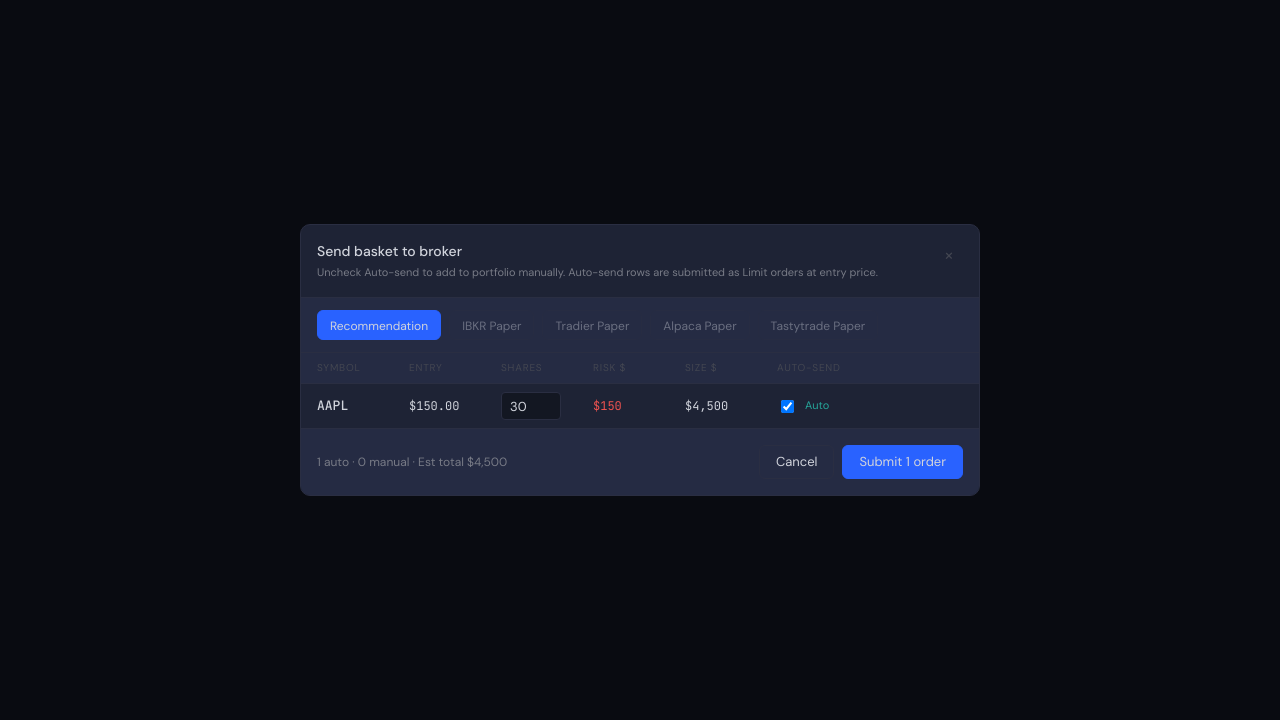
Test: StockSendDialog — pending (backend-unreachable) submit › keeps the dialog open, surfaces a queued note, and disables re-submit
The width and height of the screenshot is (1280, 720).
Click the button "Submit 1 order" at [903, 462], box [842,445,963,479]
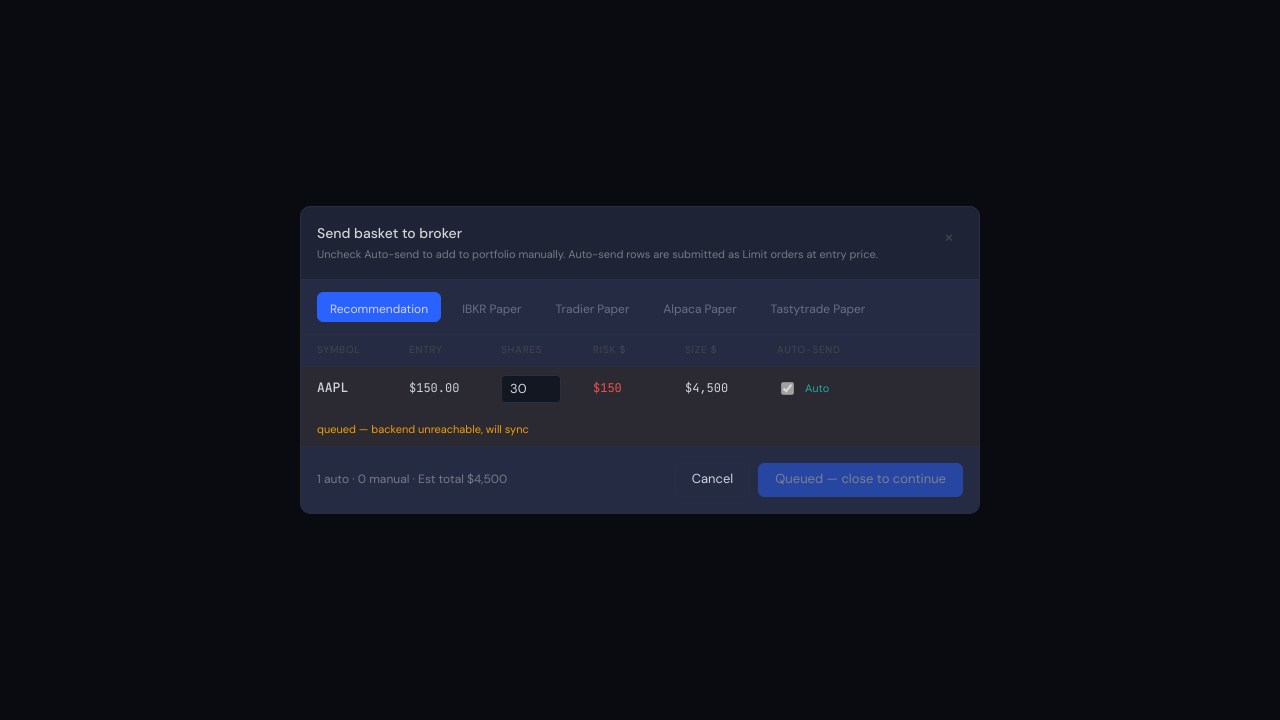
Expected: the text "queued — backend unreachable, will sync" is shown, [317,422,529,436]
Expected: the button "Queued — close to continue" is disabled, [758,463,963,497]
